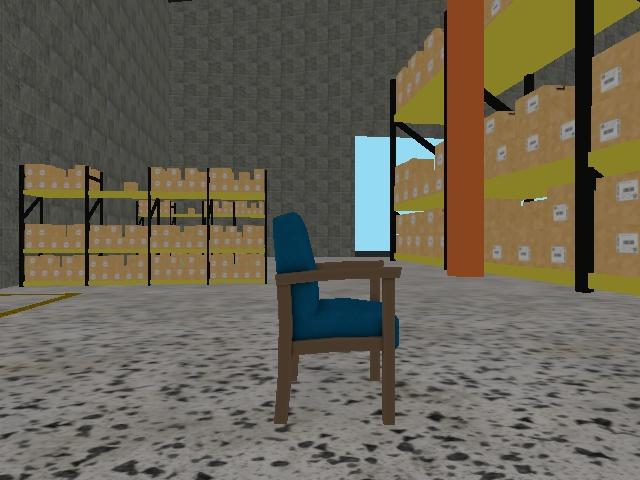chair: (270, 208, 407, 429)
